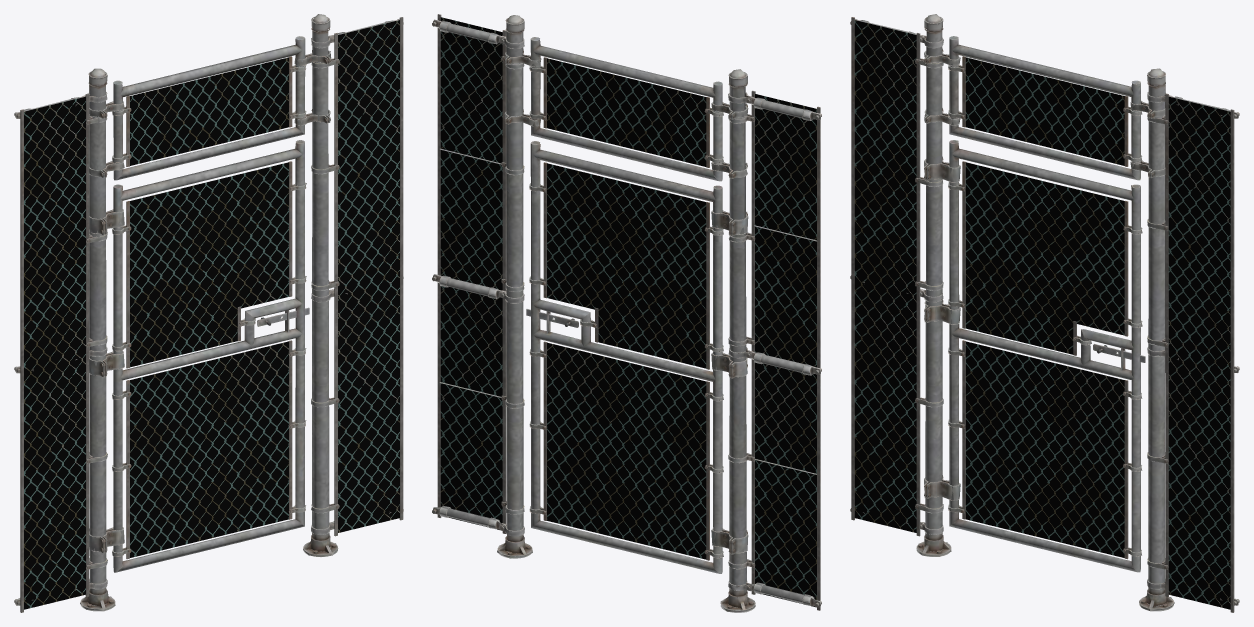
Rendered from fence_gate.glb.
3 renders of one model, left to right at view 1: azimuth 30°, elevation 25°; view 2: azimuth 150°, elevation 25°; view 3: azimuth 330°, elevation 25°, orthographic.
Visible parts, largest first — view 1: fence_gate; view 2: fence_gate; view 3: fence_gate.
Boxes of the visible parts, x1=… form: fence_gate: x1=14, y1=14, x2=403, y2=612; fence_gate: x1=432, y1=14, x2=821, y2=612; fence_gate: x1=850, y1=14, x2=1239, y2=612.
Bounding box in the file's own units: 1.91 × 2.52 × 0.1574.
Materials: 2 (2 with a texture image).
